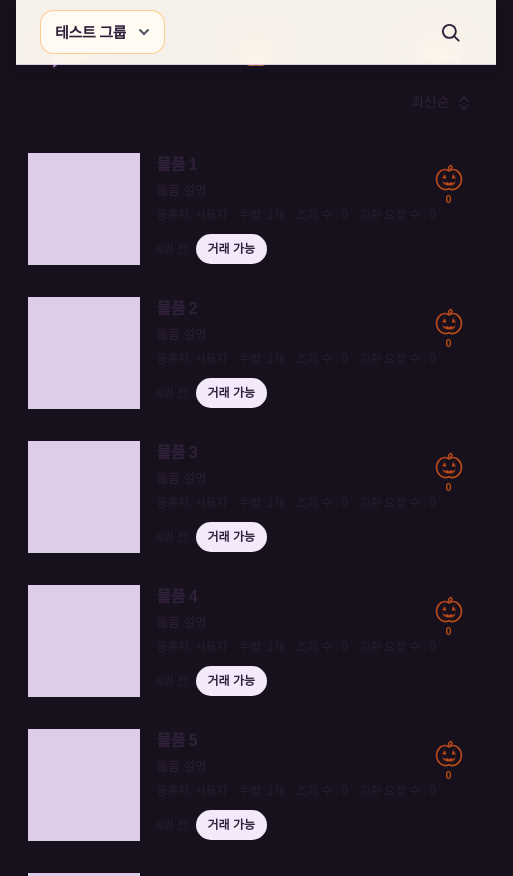
Test: 인기순에서 최신순으로 전환하면 추천 커서를 보내지 않고 최신 API로 조회한다
What coordinates should you click on to do the following:
click the button with aria-label "정렬 방법: 최신순"
I would click on:
 (435, 103)
Its box is [399,81,472,125].
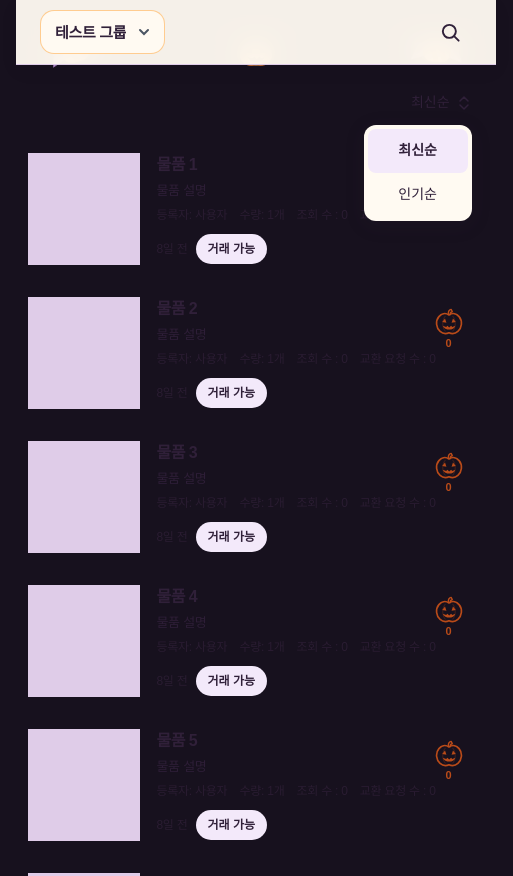
What coordinates should you click on to do the following:
click the button "인기순"
I would click on:
 (418, 195)
Its box is [368,173,468,217].
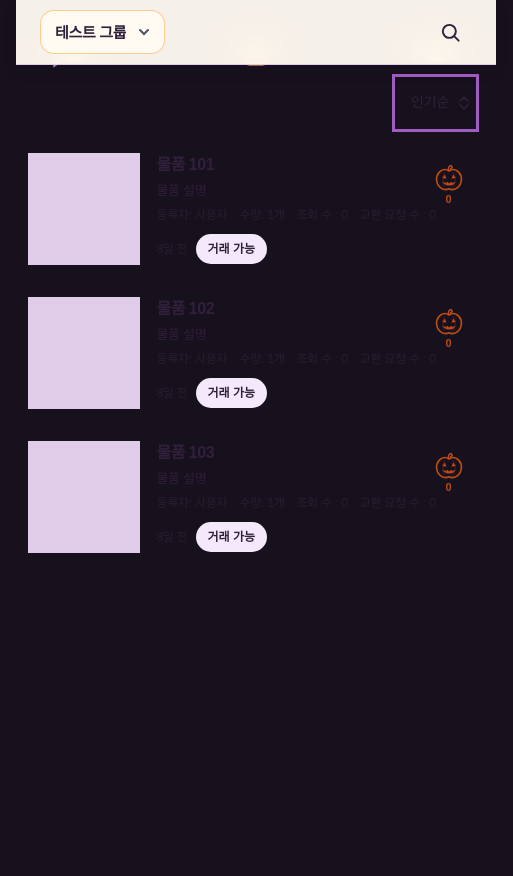
Expected: the heading "물품 101" is shown, [156,156,214,173]
What coordinates should you click on to do the following:
click the button with aria-label "정렬 방법: 인기순"
I would click on:
 (435, 103)
Its box is [399,81,472,125].
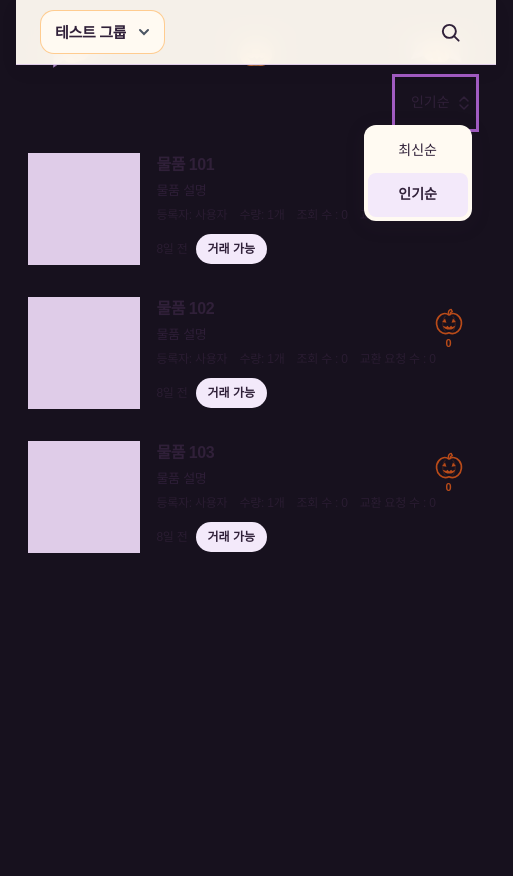
What coordinates should you click on to do the following:
click the button "최신순"
I would click on:
 (418, 151)
Its box is [368,129,468,173].
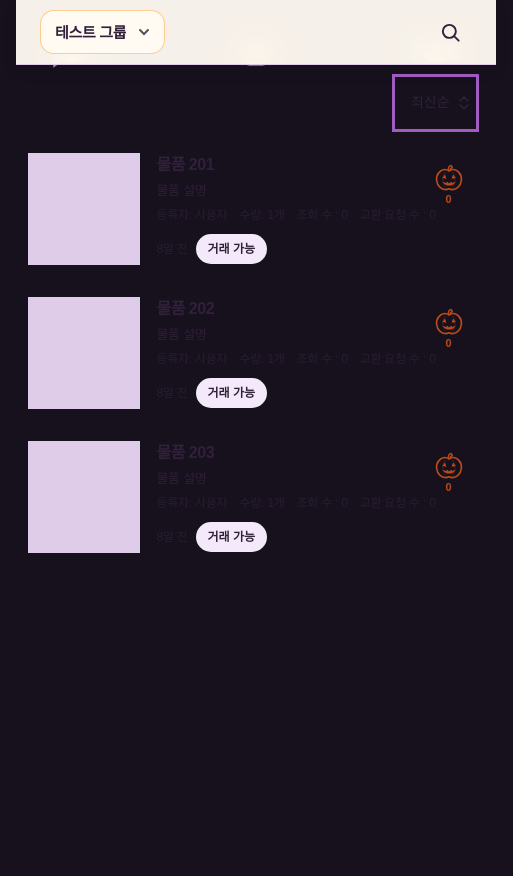
Expected: the heading "물품 201" is shown, [156,156,214,173]
Expected: the heading "물품 101" is gone
